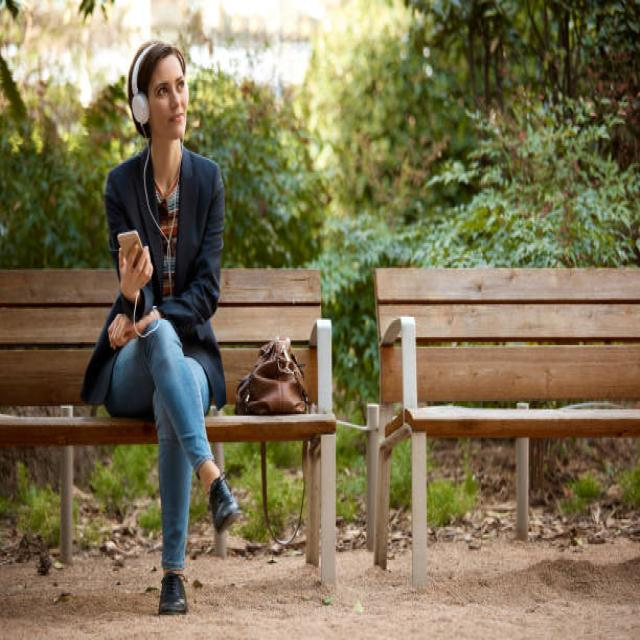Headphone: (131, 44, 190, 126)
